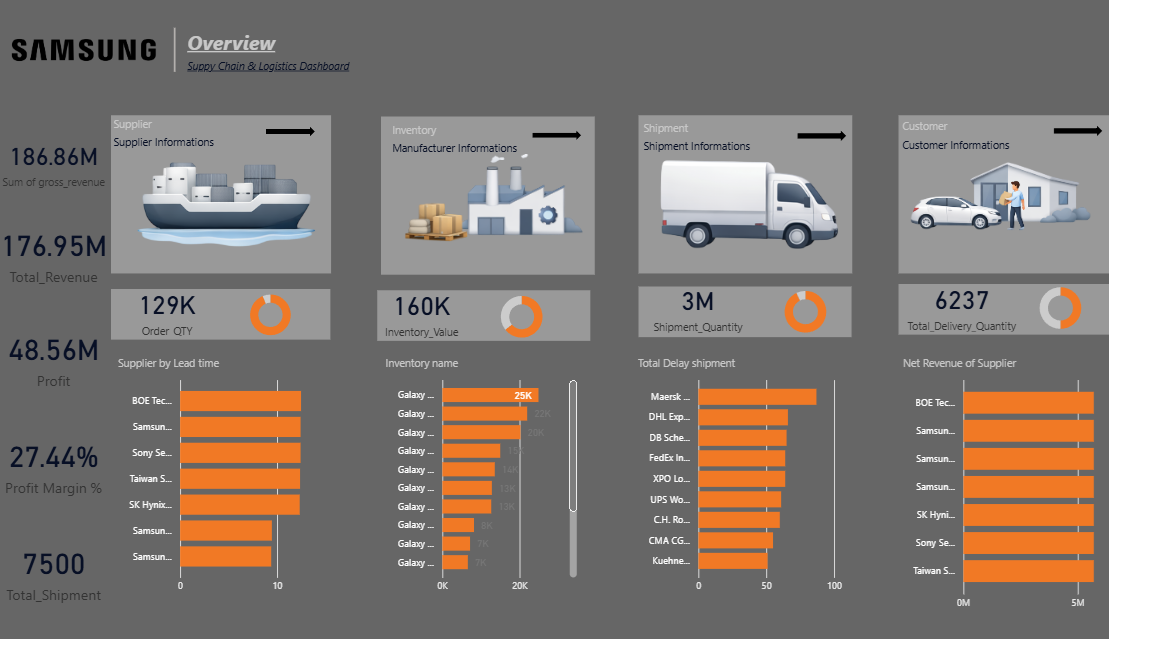

What the dashboard file says about the page in this screenshot:
{"tool":"powerbi","page":{"name":"Page 1","canvas":[1280,720],"ordinal":0},"visuals":[{"type":"shape","box":[131.4,144.3,250,180],"z":0},{"type":"shape","box":[438.6,145.7,242.9,180],"z":1000},{"type":"shape","box":[1027.1,144.3,242.9,180],"z":2000},{"type":"shape","box":[731.4,144.3,242.9,180],"z":3000},{"type":"image","box":[134.2,147.2,246.7,173.1],"z":4000},{"type":"image","box":[438.6,148.6,242.4,168.8],"z":5000},{"type":"image","box":[732.9,145.7,242.4,183.2],"z":6000},{"type":"image","box":[1027.2,147.2,242.4,173.1],"z":7000},{"type":"shape","box":[307.1,157.1,55.7,11.4],"z":8000},{"type":"shape","box":[1202.9,155.7,55.7,12.9],"z":9000},{"type":"shape","box":[911.4,160,55.7,12.9],"z":10000},{"type":"shape","box":[610,160,55.7,11.4],"z":11000},{"type":"shape","title":"Supplier","box":[134.3,145.7,137.1,60],"z":12000},{"type":"shape","title":"Inventory","box":[450.1,151.5,171.7,50.5],"z":13000},{"type":"shape","title":"Shipment","box":[737.1,150,151.4,47.1],"z":14000},{"type":"shape","title":"Customer","box":[1031.4,148.6,171.4,67.1],"z":15000},{"type":"shape","title":"Overview","box":[217.7,44,289.8,67.3],"z":16000},{"type":"shape","box":[106.4,44,193.2,50.1],"z":17000},{"type":"image","box":[0,31.8,192,75.8],"z":18000},{"type":"card","fields":{"Values":["measureTable.Total_Revenue"]},"box":[0,247.1,131.4,107.1],"z":19000},{"type":"card","fields":{"Values":["measureTable.Profit"]},"box":[0,365.4,131.4,107.1],"z":20000},{"type":"card","fields":{"Values":["measureTable.Profit Margin %"]},"box":[0,488.3,131.4,107.1],"z":21000},{"type":"card","fields":{"Values":["measureTable.Total_Shipment"]},"box":[0,608.3,131.4,107.1],"z":22000},{"type":"card","fields":{"Values":["Sum(fact_sales.gross_revenue)"]},"box":[0,143.1,131.4,107.1],"z":23000},{"type":"shape","box":[131.3,341.9,249.6,57.7],"z":24000},{"type":"shape","box":[434.3,343.4,242.4,57.7],"z":25000},{"type":"shape","box":[731.5,339,242.4,57.7],"z":26000},{"type":"shape","box":[1027.2,336.2,242.4,57.7],"z":27000},{"type":"card","fields":{"Values":["measureTable.Order_QTY"]},"box":[129.4,332.8,130.8,66.8],"z":28000},{"type":"card","fields":{"Values":["measureTable.Inventory_Value"]},"box":[417,333.3,135.6,69.3],"z":29000},{"type":"card","fields":{"Values":["fact_sales.Total_Shipment_Quantity"]},"box":[731.5,327.5,135.6,69.3],"z":30000},{"type":"card","fields":{"Values":["fact_sales.Total_Delivery_Quantity"]},"box":[1031.6,326.1,135.6,69.3],"z":31000},{"type":"clusteredBarChart","title":"Supplier by Lead time","fields":{"Category":["dim_supplier.supplier_name"],"Y":["measureTable.Avg_Lead_Time"]},"box":[134.2,417,252.5,280],"z":32000},{"type":"clusteredBarChart","title":"Inventory name","fields":{"Category":["dim_product.product_name"],"Y":["measureTable.Inventory_Value"]},"box":[438.6,417,228,280],"z":33000},{"type":"clusteredBarChart","title":"Total Delay shipment","fields":{"Category":["fact_shipment.carrier"],"Y":["fact_inventory.Total_Delay"]},"box":[725.7,417,242.4,280],"z":34000},{"type":"clusteredBarChart","title":"Net Revenue of Supplier","fields":{"Category":["dim_supplier.supplier_name"],"Y":["Sum(fact_sales.net_revenue)"]},"box":[1026.8,416.7,243.2,298.7],"z":35000},{"type":"donutChart","fields":{"Y":["measureTable.Inventory_Value","fact_sales.safety_stocks"]},"box":[530.9,339,135.6,69.3],"z":36000},{"type":"donutChart","fields":{"Y":["measureTable.Total_Shipment","fact_inventory.Total_Delay"]},"box":[852.7,333.3,135.6,69.3],"z":37000},{"type":"donutChart","fields":{"Y":["fact_sales.Total_Delivery_Quantity","fact_sales.Total Delay"]},"box":[1144.1,328.9,135.6,69.3],"z":38000},{"type":"donutChart","fields":{"Y":["measureTable.Order_QTY","CountNonNull(fact_sales.order_number)"]},"box":[245.3,337.6,135.6,67.8],"z":39000}]}

Visuals, with their boxes in screenshot pixels (x1, y1, x2, y2), scaled from the page's 1280x720 canvas onto the 1152x648 screenshot:
shape: 118:130:343:292
shape: 395:131:613:293
shape: 924:130:1143:292
shape: 658:130:877:292
image: 121:132:343:288
image: 395:134:613:286
image: 660:131:878:296
image: 924:132:1143:288
shape: 276:141:327:152
shape: 1083:140:1133:152
shape: 820:144:870:156
shape: 549:144:599:154
"Supplier" shape: 121:131:244:185
"Inventory" shape: 405:136:560:182
"Shipment" shape: 663:135:800:177
"Customer" shape: 928:134:1083:194
"Overview" shape: 196:40:457:100
shape: 96:40:270:85
image: 0:29:173:97
card - measureTable.Total_Revenue: 0:222:118:319
card - measureTable.Profit: 0:329:118:425
card - measureTable.Profit Margin %: 0:439:118:536
card - measureTable.Total_Shipment: 0:547:118:644
card - Sum(fact_sales.gross_revenue): 0:129:118:225
shape: 118:308:343:360
shape: 391:309:609:361
shape: 658:305:877:357
shape: 924:303:1143:355
card - measureTable.Order_QTY: 116:300:234:360
card - measureTable.Inventory_Value: 375:300:497:362
card - fact_sales.Total_Shipment_Quantity: 658:295:780:357
card - fact_sales.Total_Delivery_Quantity: 928:293:1050:356
"Supplier by Lead time" clusteredBarChart: 121:375:348:627
"Inventory name" clusteredBarChart: 395:375:600:627
"Total Delay shipment" clusteredBarChart: 653:375:871:627
"Net Revenue of Supplier" clusteredBarChart: 924:375:1143:644
donutChart - measureTable.Inventory_Value x fact_sales.safety_stocks: 478:305:600:367
donutChart - measureTable.Total_Shipment x fact_inventory.Total_Delay: 767:300:889:362
donutChart - fact_sales.Total_Delivery_Quantity x fact_sales.Total Delay: 1030:296:1151:358
donutChart - measureTable.Order_QTY x CountNonNull(fact_sales.order_number): 221:304:343:365
